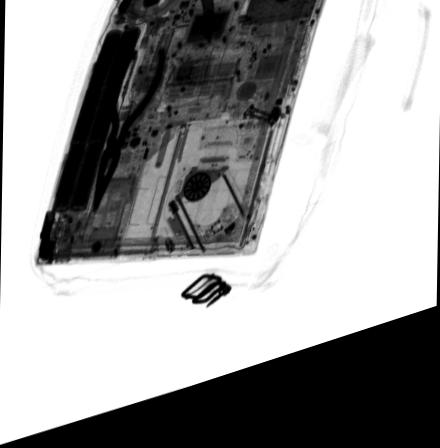Pliers: (89, 53, 167, 220)
